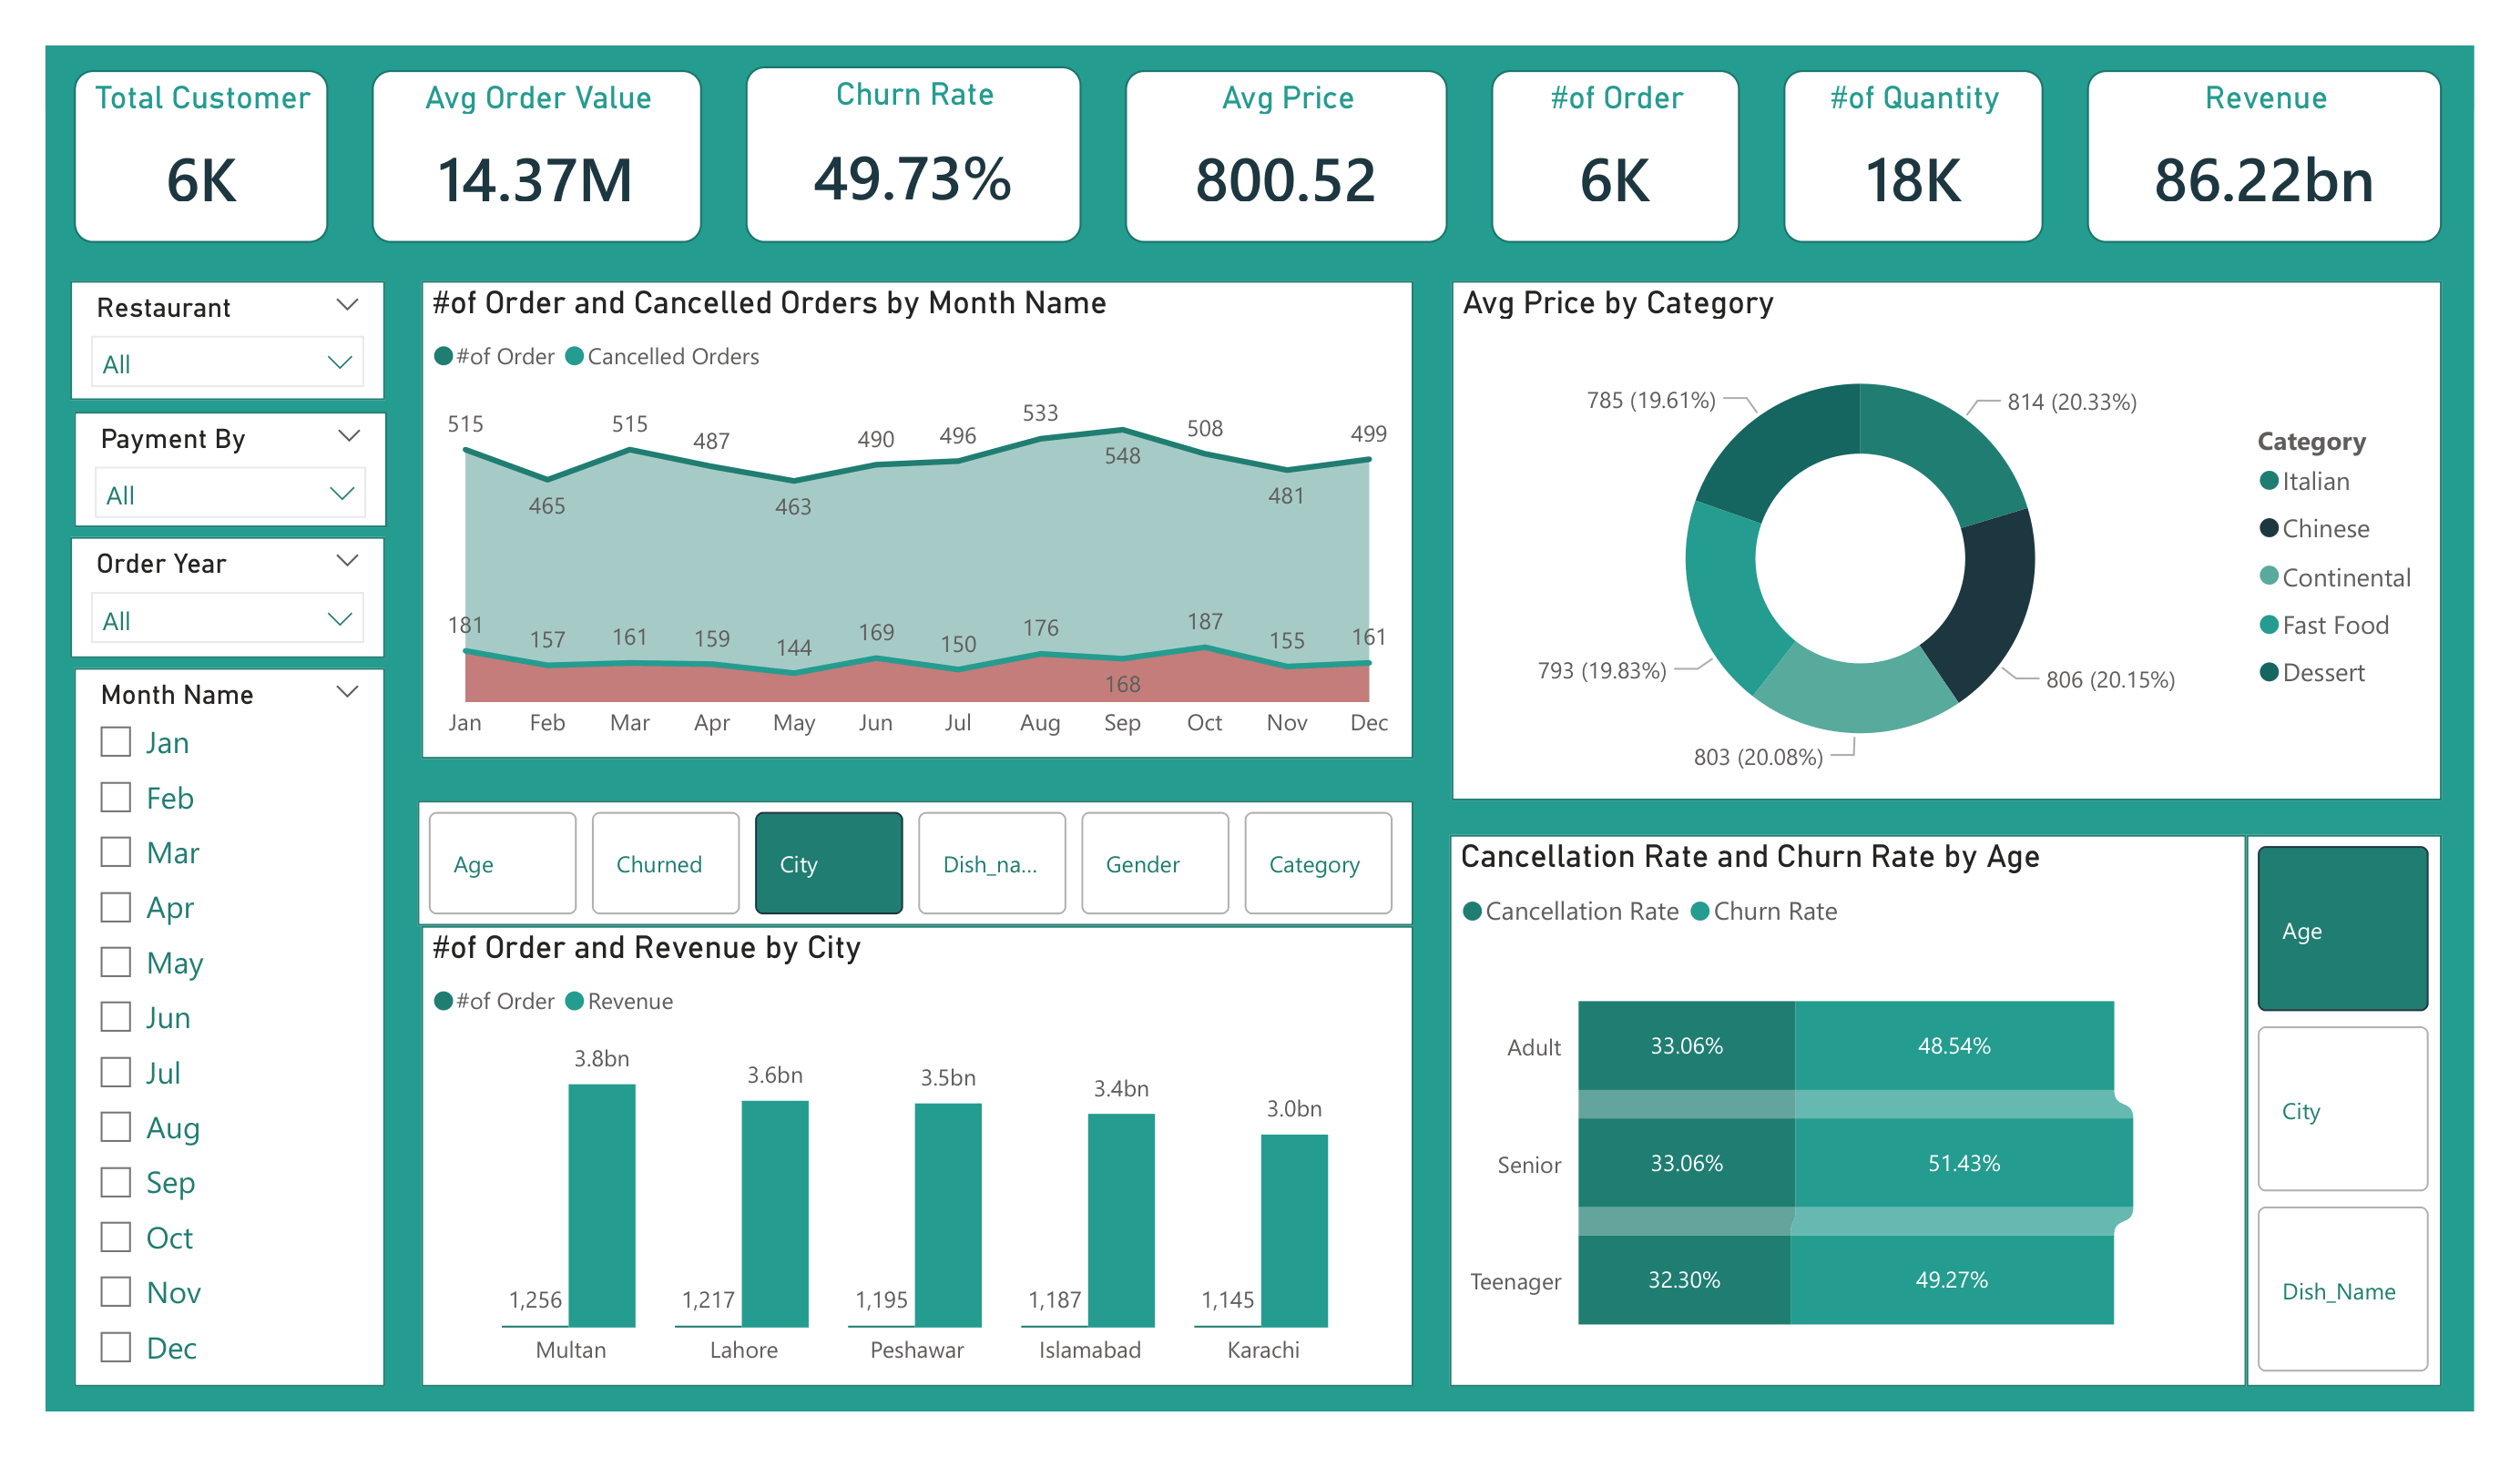

This screenshot's page, from the dashboard's own definition file:
{"tool":"powerbi","page":{"name":"Order & Revenue","canvas":[1280,720],"ordinal":0},"visuals":[{"type":"cardVisual","title":"Total Customer","fields":{"Data":["_DAX.#of Customer"]},"box":[14.7,13.5,134.6,90.6],"z":0},{"type":"cardVisual","title":"#of Order","fields":{"Data":["_DAX.#of Order"]},"box":[762.1,13.5,131,90.6],"z":1000},{"type":"cardVisual","title":"#of Quantity","fields":{"Data":["_DAX.#of Quantity"]},"box":[915.9,13.5,137.1,90.6],"z":2000},{"type":"cardVisual","title":"Revenue","fields":{"Data":["_DAX.Revenue"]},"box":[1075.8,13.5,187.3,90.6],"z":3000},{"type":"cardVisual","title":"Avg Order Value","fields":{"Data":["_DAX.#of Avg Order Value"]},"box":[172.2,13.5,173.8,90.6],"z":4000},{"type":"cardVisual","title":"Avg Price","fields":{"Data":["_DAX.Avg Price"]},"box":[569.1,13.5,170.1,90.6],"z":5000},{"type":"areaChart","fields":{"Category":["DimDate.Month Name"],"Y":["_DAX.#of Order","_DAX.Cancelled Orders"]},"box":[198.3,123.6,522.6,252.1],"z":6000},{"type":"clusteredColumnChart","fields":{"Category":["Foodpanda Analysis Dataset.City"],"Y":["_DAX.#of Order","_DAX.Revenue"]},"box":[198.3,463.9,522.6,243.6],"z":7000},{"type":"barChart","fields":{"Category":["Foodpanda Analysis Dataset.Age"],"Y":["_DAX.Cancellation Rate","_DAX.Churn Rate"]},"box":[740.5,416.1,419.8,291.3],"z":8000},{"type":"donutChart","fields":{"Category":["Foodpanda Analysis Dataset.category"],"Y":["_DAX.Avg Price"]},"box":[740.8,123.9,522,274.1],"z":9000},{"type":"slicer","fields":{"Values":["DimDate.Year"]},"box":[13.5,259.1,165.2,63.6],"z":10000},{"type":"slicer","fields":{"Values":["DimDate.Month Name"]},"box":[14.6,328.1,164.8,379.1],"z":11000},{"type":"slicer","fields":{"Values":["Foodpanda Analysis Dataset.restaurant_name"]},"box":[13.5,123.6,165.2,63.6],"z":12000},{"type":"cardVisual","title":"Churn Rate","fields":{"Data":["_DAX.Churn Rate"]},"box":[368.8,11,177.5,93],"z":13000},{"type":"advancedSlicerVisual","fields":{"Values":["Category.Category"]},"box":[195.8,397.8,525.1,66.1],"z":14000},{"type":"advancedSlicerVisual","fields":{"Values":["Parameter.Parameter"]},"box":[1160.3,416.1,102.8,291.3],"z":15000},{"type":"slicer","fields":{"Values":["Foodpanda Analysis Dataset.payment_method"]},"box":[14.7,192.6,165.2,61.2],"z":15001}]}

Visuals, with their boxes in screenshot pixels (x1, y1, x2, y2):
"Total Customer" cardVisual: {"x1": 42, "y1": 59, "x2": 303, "y2": 235}
"#of Order" cardVisual: {"x1": 1493, "y1": 59, "x2": 1747, "y2": 235}
"#of Quantity" cardVisual: {"x1": 1791, "y1": 59, "x2": 2057, "y2": 235}
"Revenue" cardVisual: {"x1": 2102, "y1": 59, "x2": 2465, "y2": 235}
"Avg Order Value" cardVisual: {"x1": 348, "y1": 59, "x2": 685, "y2": 235}
"Avg Price" cardVisual: {"x1": 1118, "y1": 59, "x2": 1448, "y2": 235}
areaChart - DimDate.Month Name x _DAX.#of Order: {"x1": 398, "y1": 273, "x2": 1413, "y2": 762}
clusteredColumnChart - Foodpanda Analysis Dataset.City x _DAX.#of Order: {"x1": 398, "y1": 933, "x2": 1413, "y2": 1406}
barChart - Foodpanda Analysis Dataset.Age x _DAX.Cancellation Rate: {"x1": 1451, "y1": 841, "x2": 2266, "y2": 1406}
donutChart - Foodpanda Analysis Dataset.category x _DAX.Avg Price: {"x1": 1452, "y1": 273, "x2": 2464, "y2": 805}
slicer - DimDate.Year: {"x1": 39, "y1": 535, "x2": 360, "y2": 659}
slicer - DimDate.Month Name: {"x1": 42, "y1": 669, "x2": 362, "y2": 1406}
slicer - Foodpanda Analysis Dataset.restaurant_name: {"x1": 39, "y1": 273, "x2": 360, "y2": 396}
"Churn Rate" cardVisual: {"x1": 729, "y1": 54, "x2": 1074, "y2": 235}
advancedSlicerVisual - Category.Category: {"x1": 393, "y1": 805, "x2": 1413, "y2": 933}
advancedSlicerVisual - Parameter.Parameter: {"x1": 2266, "y1": 841, "x2": 2465, "y2": 1406}
slicer - Foodpanda Analysis Dataset.payment_method: {"x1": 42, "y1": 407, "x2": 362, "y2": 525}
